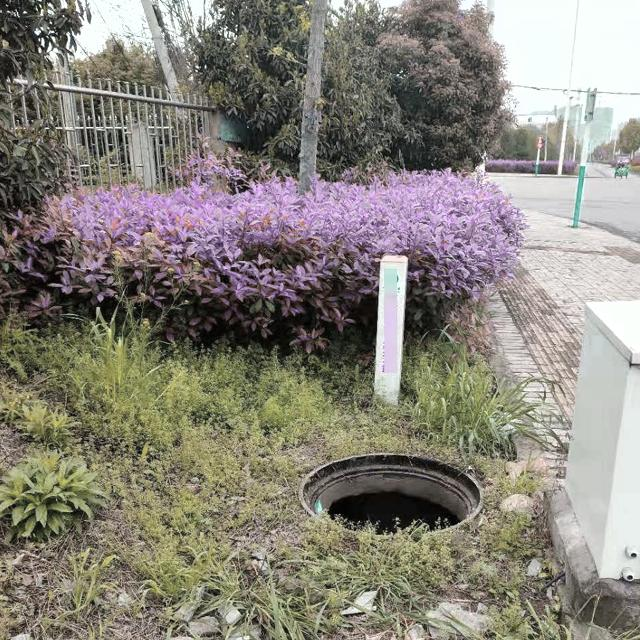lose: (289, 441, 493, 533)
